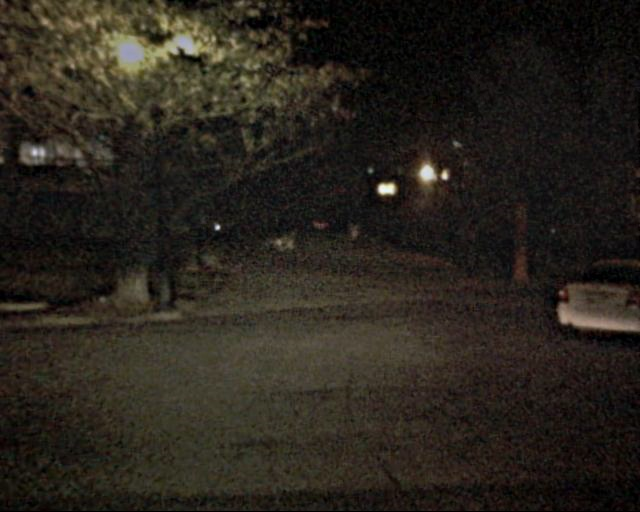person: (342, 225, 359, 267)
